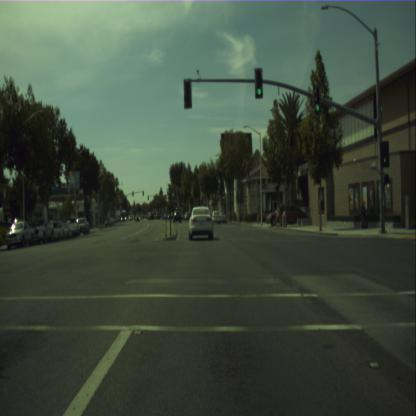Green: (254, 67, 262, 99), (380, 141, 388, 166), (314, 86, 320, 114)
Yellow: (182, 200, 184, 207)
off: (184, 79, 192, 108), (147, 194, 149, 199), (158, 196, 160, 199)
